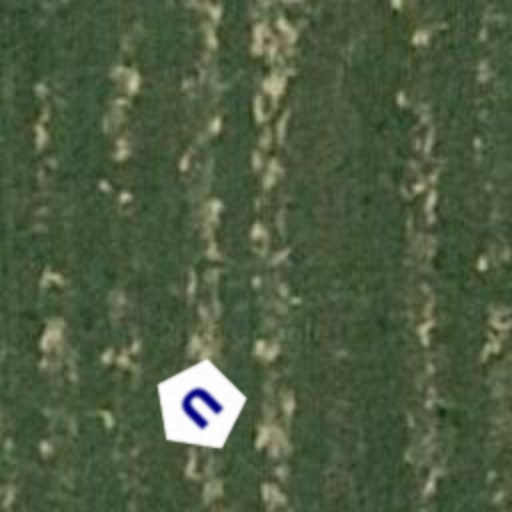pentagon: (132, 338, 268, 474)
